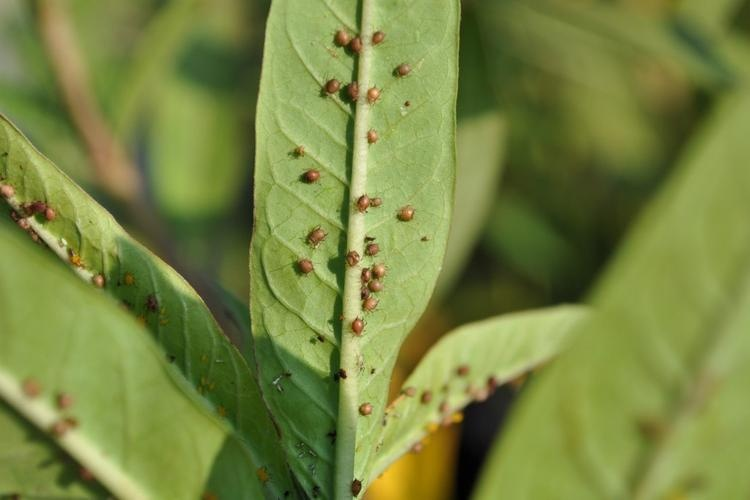Gall_Mite: (298, 21, 422, 442), (14, 182, 165, 362), (440, 365, 524, 442)
